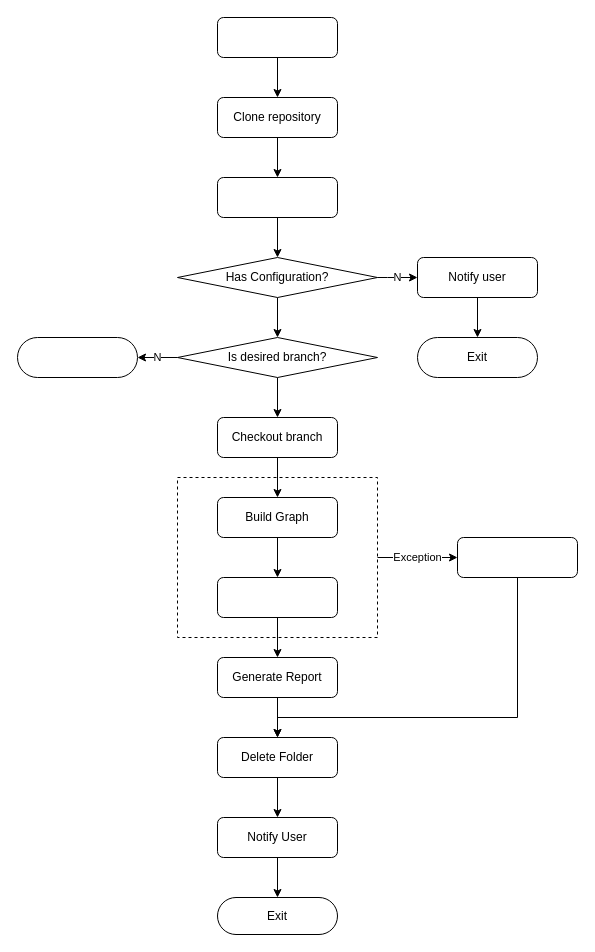
Image size: 595x952. Some labels were removed from this diagram. The shapes that lost their labels are listed below. From the top down, each one's centre as x and y in pixels, then its label:
At point 277,37: "Initialize Folder".
At point 277,197: "Load configuration".
At point 77,357: "Quit Silently".
At point 517,557: "Exception Report".
At point 277,597: "Scan Bugs".
